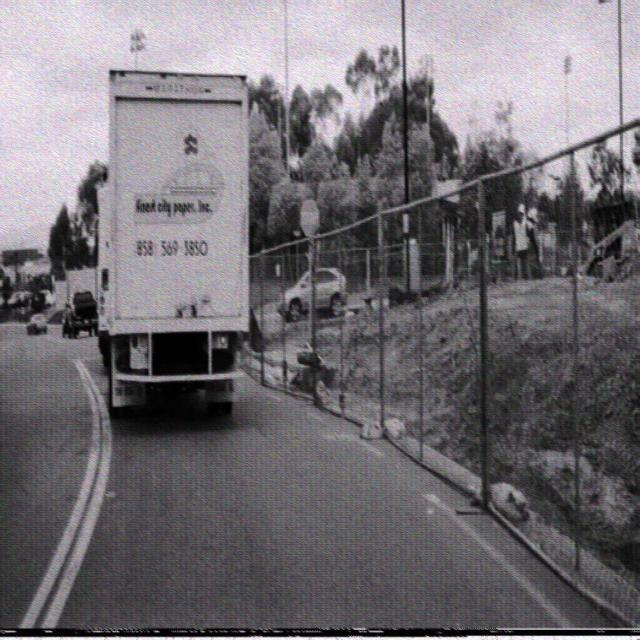stop_sign: (300, 196, 320, 237)
